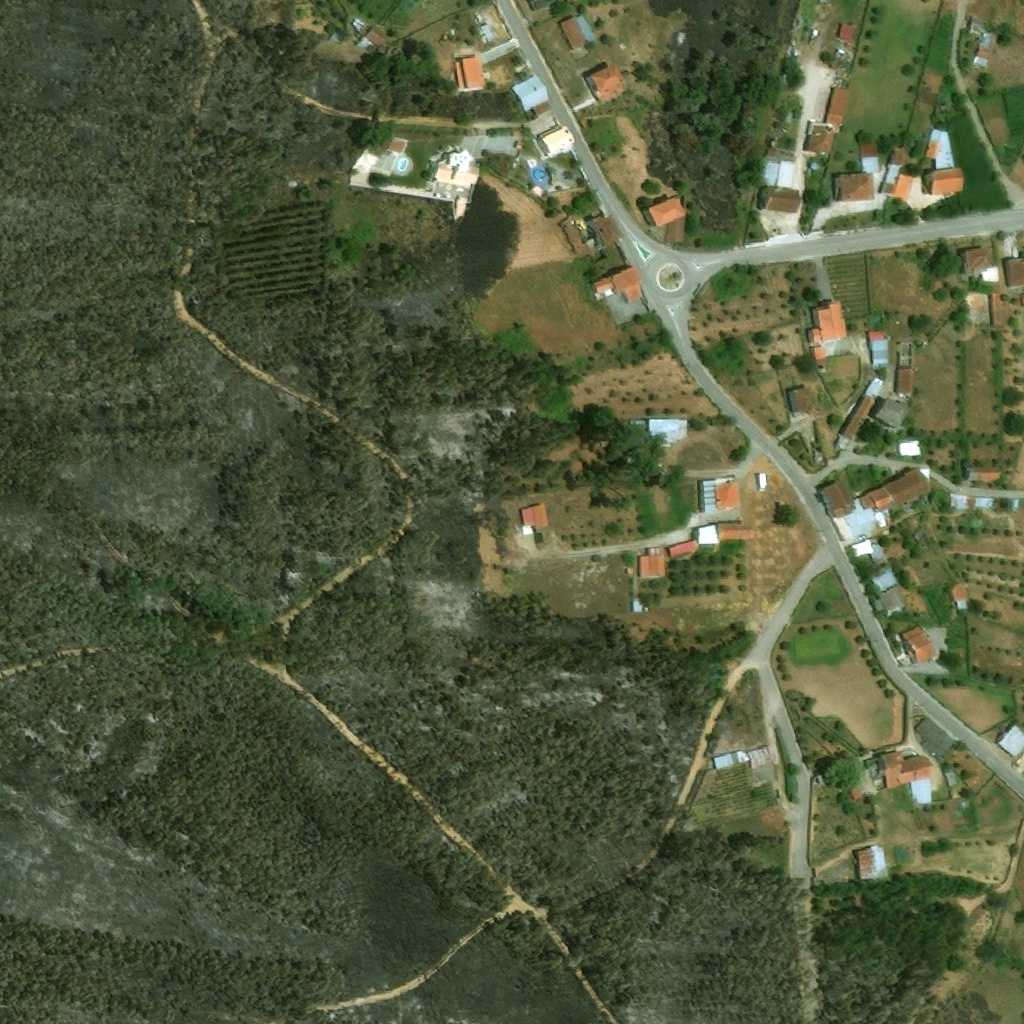0 no-damage: (858, 467, 930, 510), (838, 377, 886, 441), (877, 751, 932, 806), (923, 129, 965, 196), (760, 157, 801, 213), (647, 193, 689, 244), (833, 157, 879, 203), (589, 265, 643, 303), (867, 563, 908, 613), (879, 150, 914, 203), (584, 64, 629, 104), (807, 302, 847, 347), (897, 624, 936, 666), (696, 479, 739, 514), (348, 17, 385, 56), (709, 746, 766, 771), (961, 244, 999, 281), (509, 75, 548, 111), (911, 716, 947, 755), (538, 126, 574, 160), (853, 844, 886, 881), (646, 419, 688, 448), (455, 54, 485, 94), (822, 479, 855, 515), (558, 17, 589, 54), (874, 397, 908, 430), (824, 86, 850, 128), (786, 386, 818, 419), (591, 213, 622, 247), (636, 548, 666, 580), (867, 330, 892, 367), (996, 725, 1023, 758), (518, 504, 548, 533), (947, 577, 970, 610), (972, 33, 992, 68), (715, 523, 753, 541), (1003, 257, 1023, 289), (804, 131, 833, 153), (448, 149, 472, 172), (692, 524, 718, 545), (666, 541, 696, 559), (967, 466, 1000, 481), (850, 538, 874, 558), (895, 368, 911, 394), (897, 441, 922, 457), (858, 141, 879, 155), (808, 345, 826, 361), (383, 141, 403, 154), (847, 786, 863, 801), (838, 24, 853, 38), (950, 494, 966, 507), (328, 30, 343, 43), (975, 497, 994, 506), (1008, 500, 1020, 511)
4 un-classified: (1011, 751, 1023, 778)
